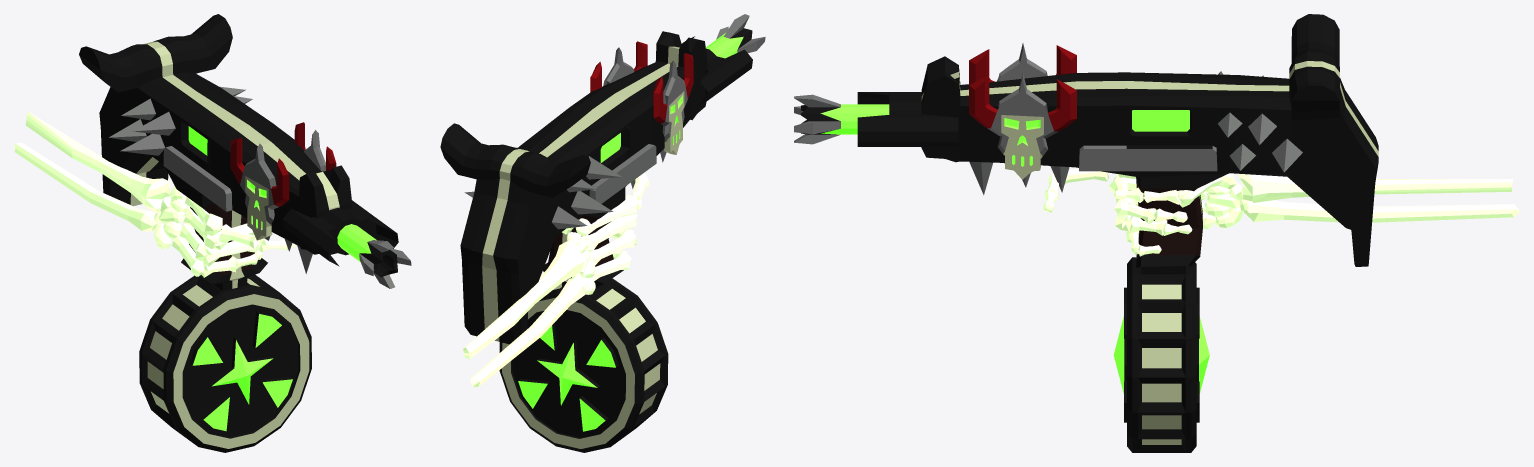
File: skeleton hand uzi.fbx
The picture shows the model from 3 angles, left to right: view 1: azimuth 30°, elevation 25°; view 2: azimuth 150°, elevation 25°; view 3: azimuth 270°, elevation 25°; orthographic projection. The views are drawn at different scales.
Visible parts, largest first — view 1: Cube.020; view 2: Cube.020; view 3: Cube.020.
Boxes of the visible parts, bbox=[...] form: Cube.020: bbox=[14, 14, 411, 452]; Cube.020: bbox=[440, 14, 765, 452]; Cube.020: bbox=[794, 14, 1519, 452].
Size of the model in its own units: 123 by 287 by 480.
